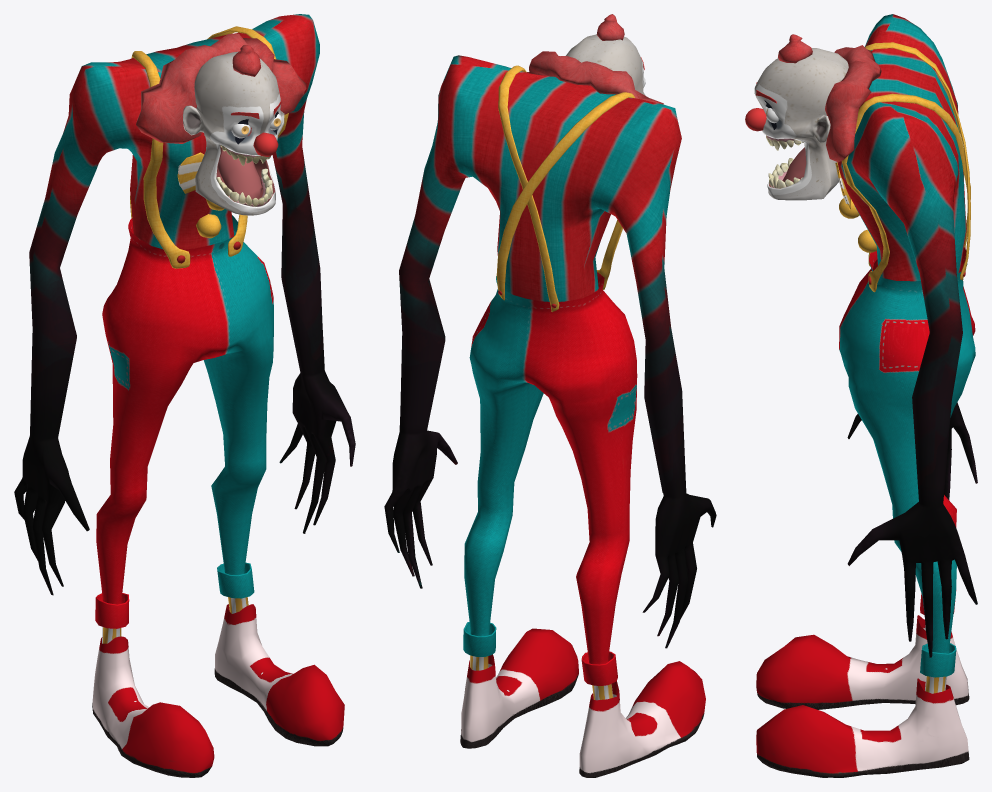
Rendered from Idle-Lookaround.fbx.
The picture shows the model from 3 angles, left to right: view 1: azimuth 30°, elevation 25°; view 2: azimuth 150°, elevation 25°; view 3: azimuth 270°, elevation 25°; orthographic projection. The views are drawn at different scales.
Visible parts, largest first — view 1: Body_Top, Body_Bot, Shoes, Skull, HairBot, OverallStrap_L, Tongue, OverallStrap_R, BottomDenture, Bow, HairTop, BallButtons; view 2: Body_Top, Body_Bot, Shoes, OverallStrap_L, HairBot, OverallStrap_R, Skull; view 3: Body_Top, Shoes, Body_Bot, Skull, HairBot, OverallStrap_R, OverallStrap_L, HairTop, BallButtons, BottomDenture, Tongue.
Boxes of the visible parts, x1,y1,x2,y2 form: Body_Top: (14,14,355,595); Body_Bot: (95,215,273,643); Shoes: (92,604,344,777); Skull: (183,51,284,215); HairBot: (136,33,306,143); OverallStrap_L: (131,51,190,268); Tongue: (218,150,262,199); OverallStrap_R: (130,26,288,256); BottomDenture: (216,168,273,206); Bow: (177,152,203,193); HairTop: (232,45,260,76); BallButtons: (196,199,224,238); Body_Top: (384,55,716,648); Body_Bot: (463,272,637,700); Shoes: (460,628,705,777); OverallStrap_L: (496,92,634,300); HairBot: (527,51,663,104); OverallStrap_R: (498,65,559,311); Skull: (566,34,645,95); Body_Top: (837,14,977,657); Shoes: (756,615,969,777); Body_Bot: (839,247,975,693); Skull: (754,48,848,200); HairBot: (825,45,881,162); OverallStrap_R: (841,93,970,292); OverallStrap_L: (865,42,970,280); HairTop: (778,34,812,63); BallButtons: (839,198,876,252); BottomDenture: (768,158,802,188); Tongue: (782,147,806,182).
Bounding box in the file's own units: 26.54 × 60.56 × 18.35.
